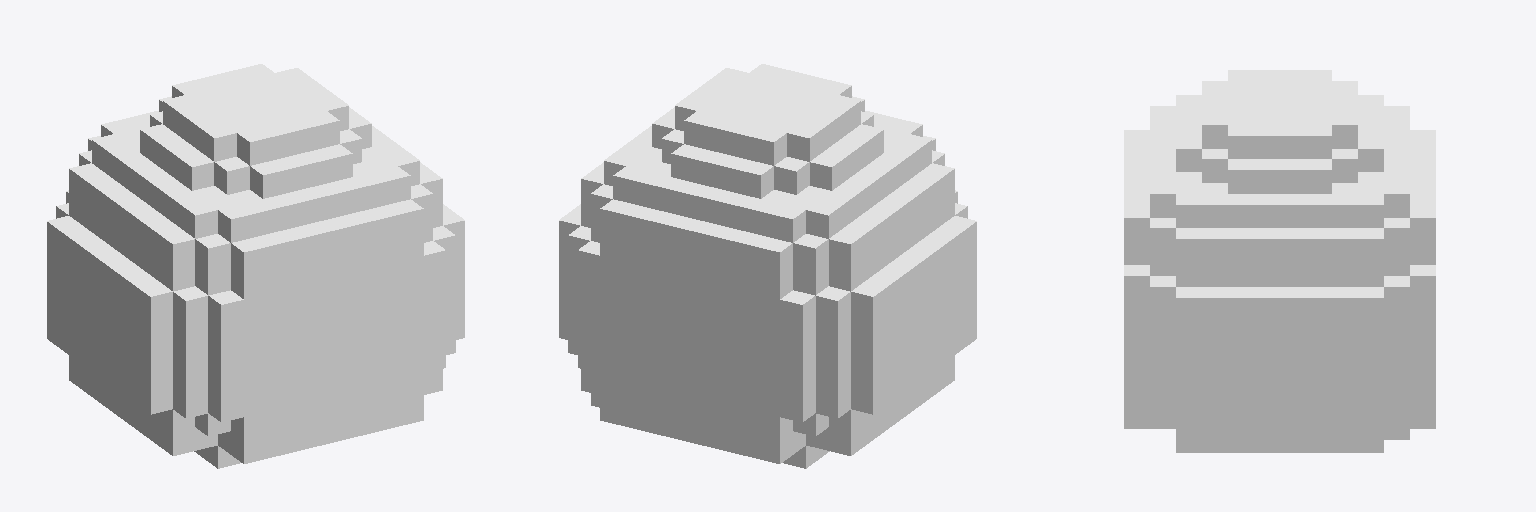
File: Puyo_Y.obj
3 views of the same model, side by side, from view 1: azimuth 30°, elevation 25°; view 2: azimuth 150°, elevation 25°; view 3: azimuth 270°, elevation 25° (orthographic).
Parts seen in each view (by area): view 1: object 1; view 2: object 1; view 3: object 1.
Boxes of the visible parts, box(x1,y1,x2,y2) form: object 1: box(47, 64, 464, 468); object 1: box(559, 64, 976, 468); object 1: box(1124, 70, 1435, 452).
Size of the model in its own units: 1.4 by 1.3 by 1.2.